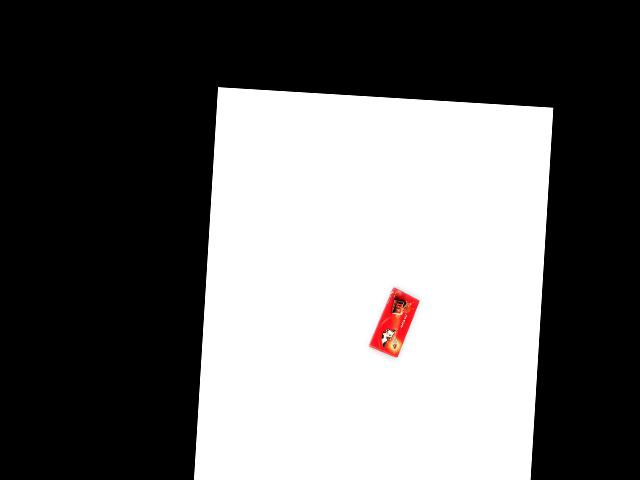chocolate: (368, 285, 421, 357)
